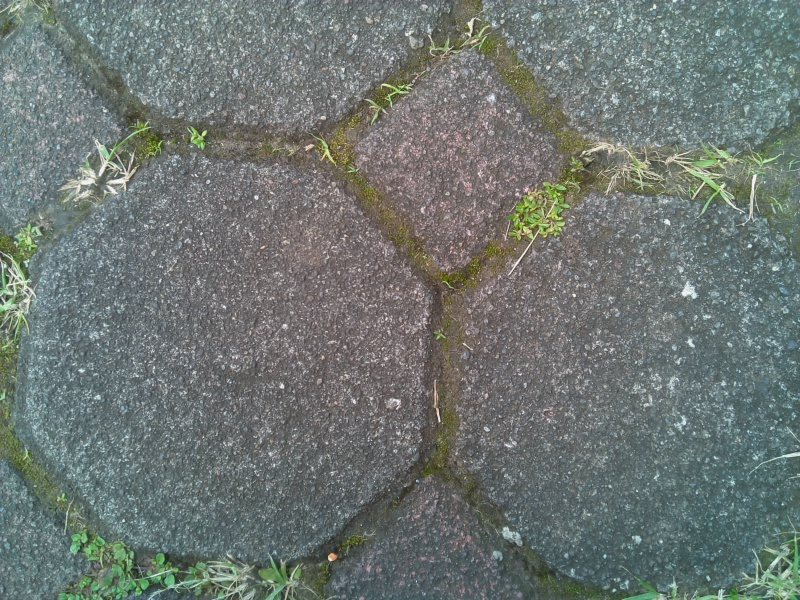Weed: (62, 525, 184, 600), (183, 548, 314, 600), (61, 134, 139, 214), (669, 136, 746, 215), (500, 171, 571, 253), (579, 135, 656, 198), (2, 258, 41, 343), (309, 128, 343, 169), (181, 123, 217, 159), (10, 220, 46, 254), (354, 93, 391, 126)
